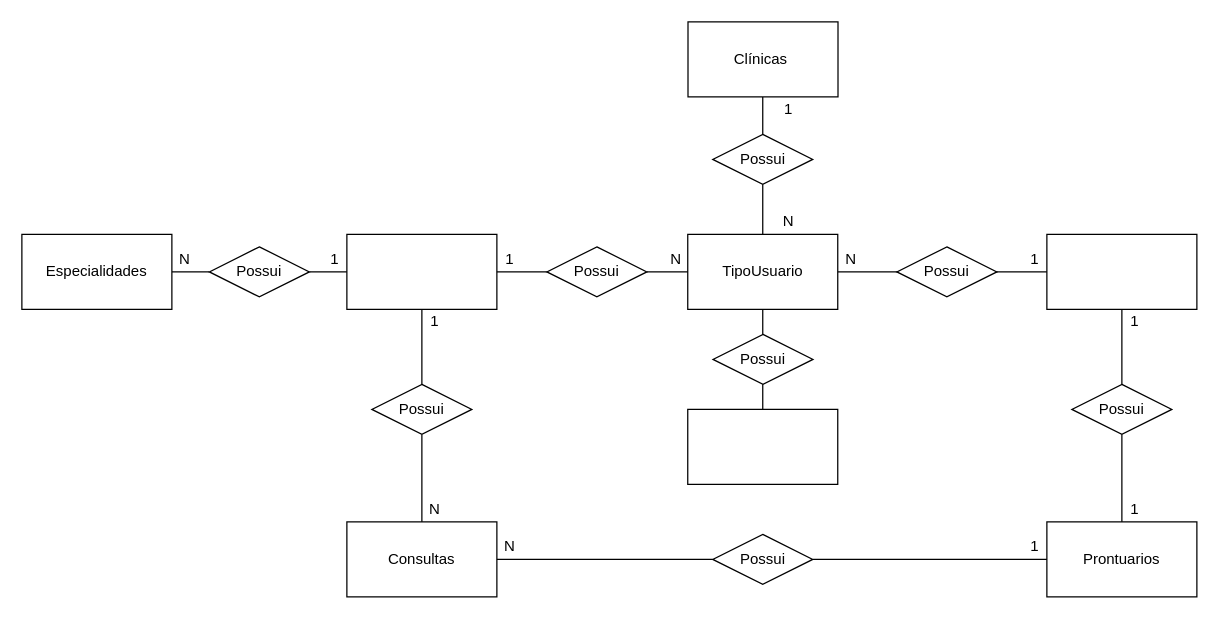
Some shapes in this 1219 by 619 pixel diagram are drawn without their labels. The shapes that lost their labels are listed below. From the top down, each one's centre as x and y in pixels, then its label:
At [421,271]: "Medicos".
At [1121,271]: "Usuario".
At [762,446]: "Adminstrador".
